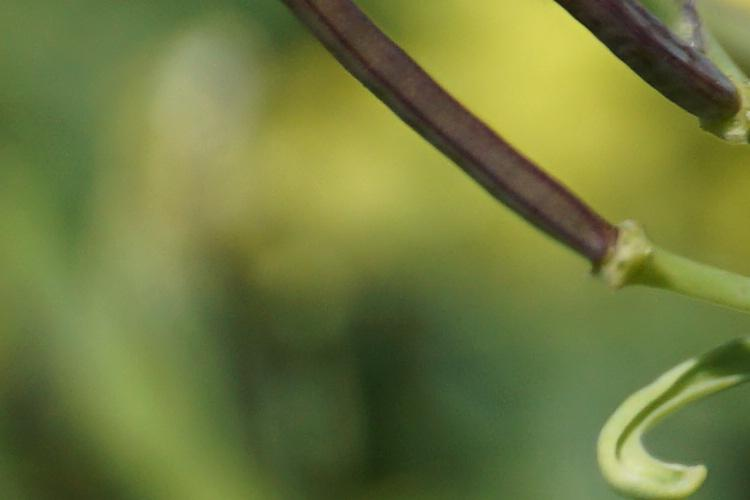pod: (282, 5, 657, 293), (567, 11, 741, 132)
